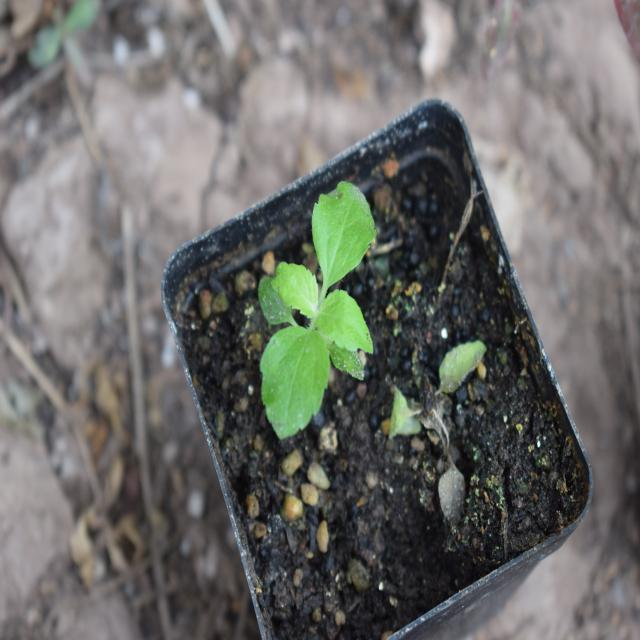billygoat_weed: (224, 160, 378, 455)
